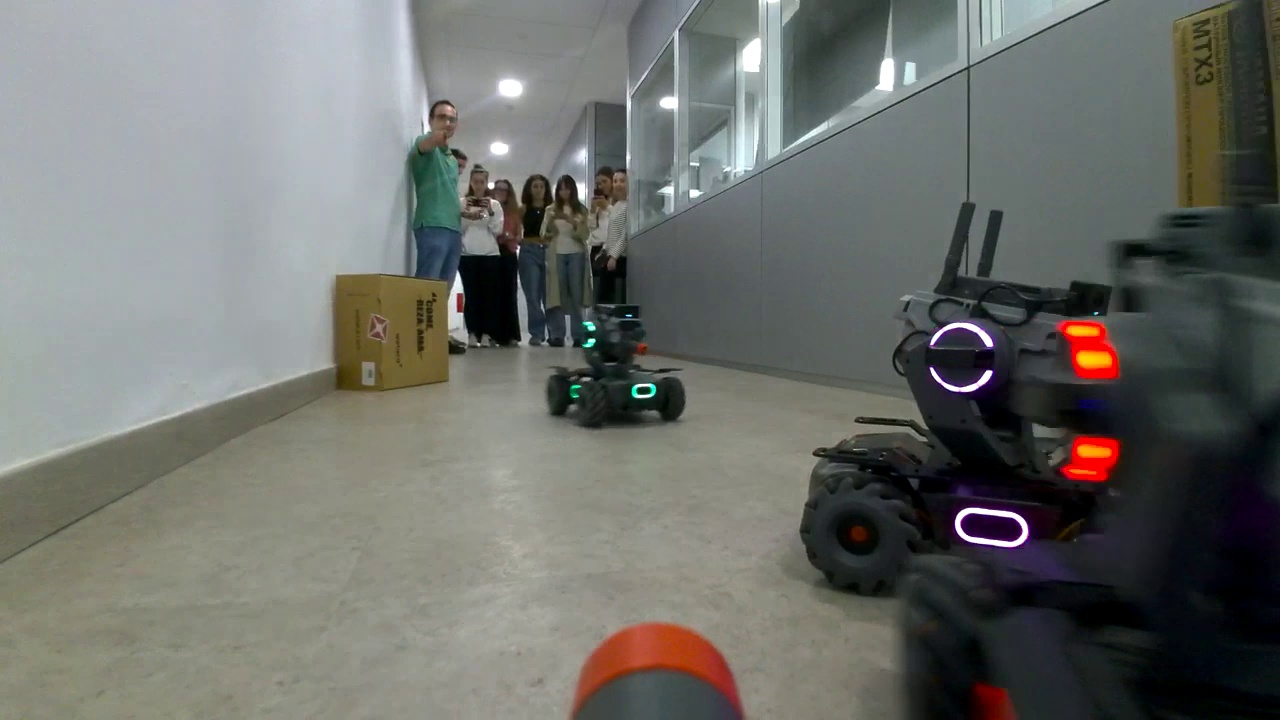robot: (800, 271, 1118, 602), (542, 303, 685, 432)
